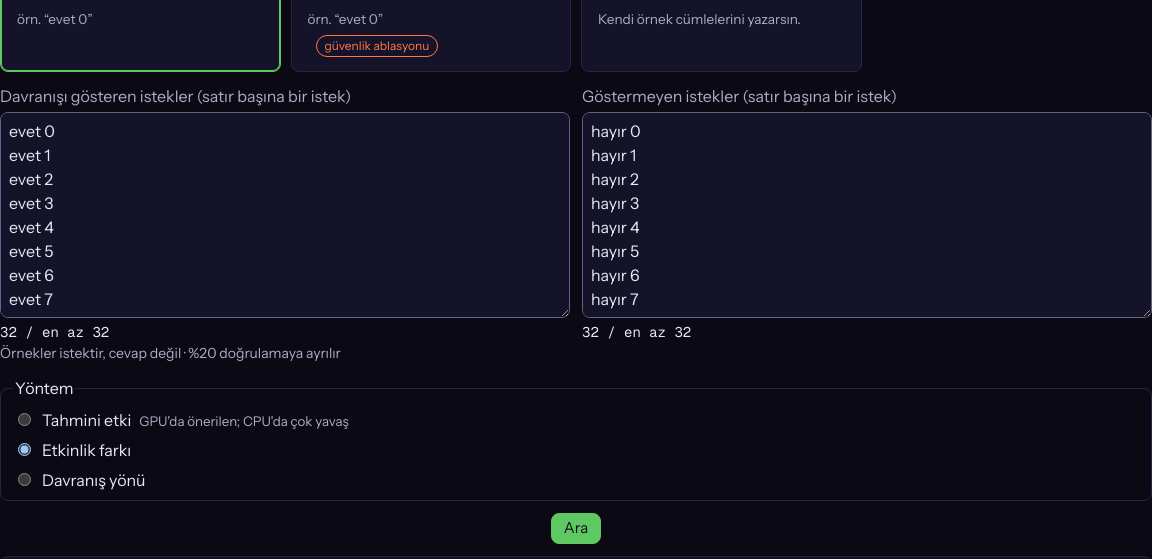
Test: a preset search posts concept_id and the chosen method, then shows the result
Click the radio button labelled "Davranış yönü".
click(24, 480)  # box [18,473,31,486]
(page scrolled)
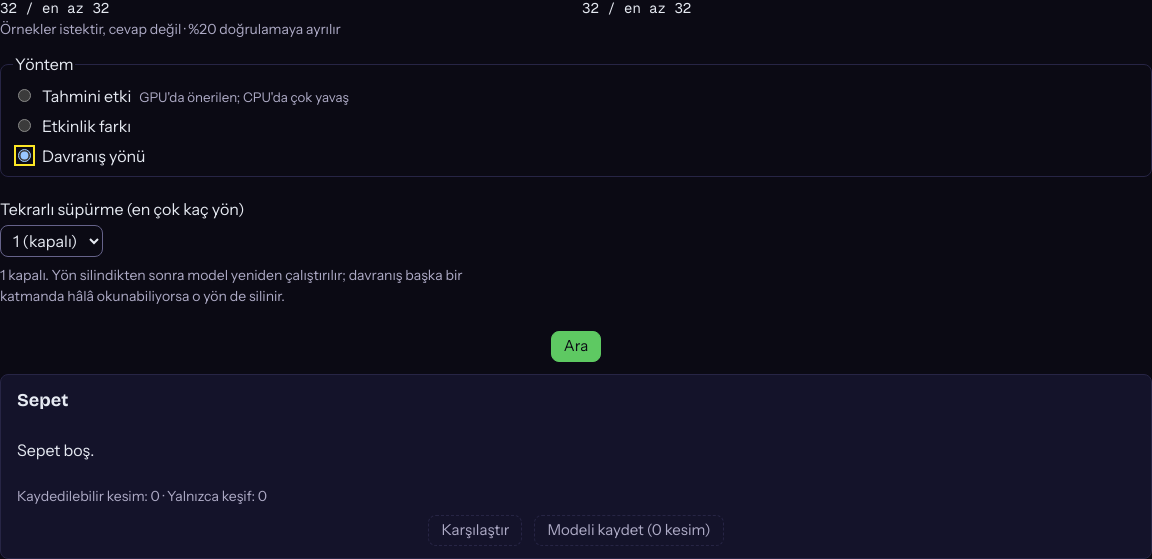
Click the button "Ara".
click(576, 347)  # box [551,331,601,362]
(page scrolled)
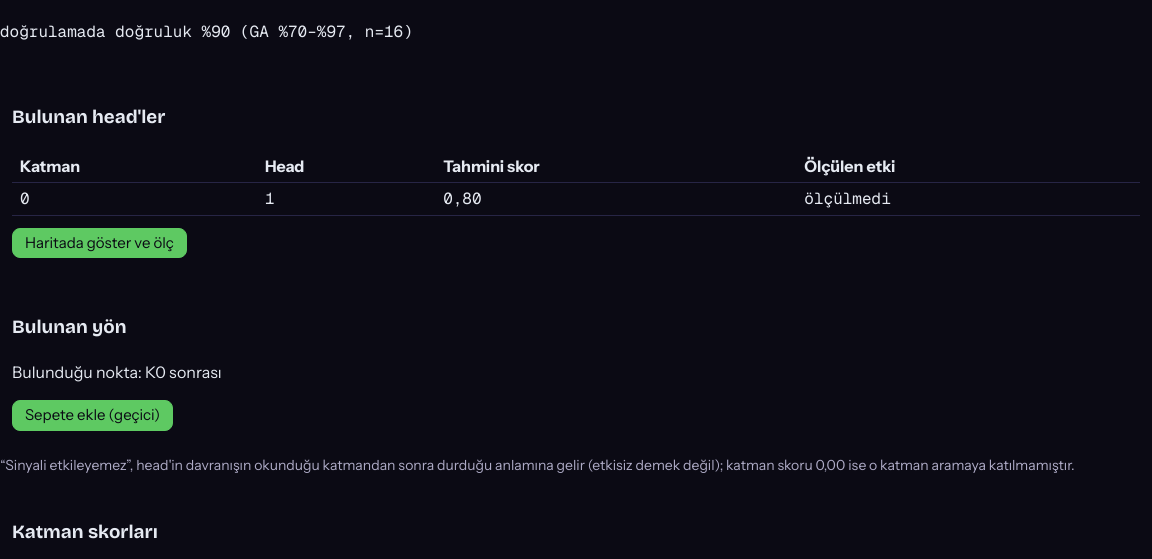
Check: the text "doğrulamada doğruluk %90 (GA %70–%97, n=16)" is shown, box [0,21,413,42]
Check: the button "Haritada göster ve ölç" is shown, box [12,228,187,258]
